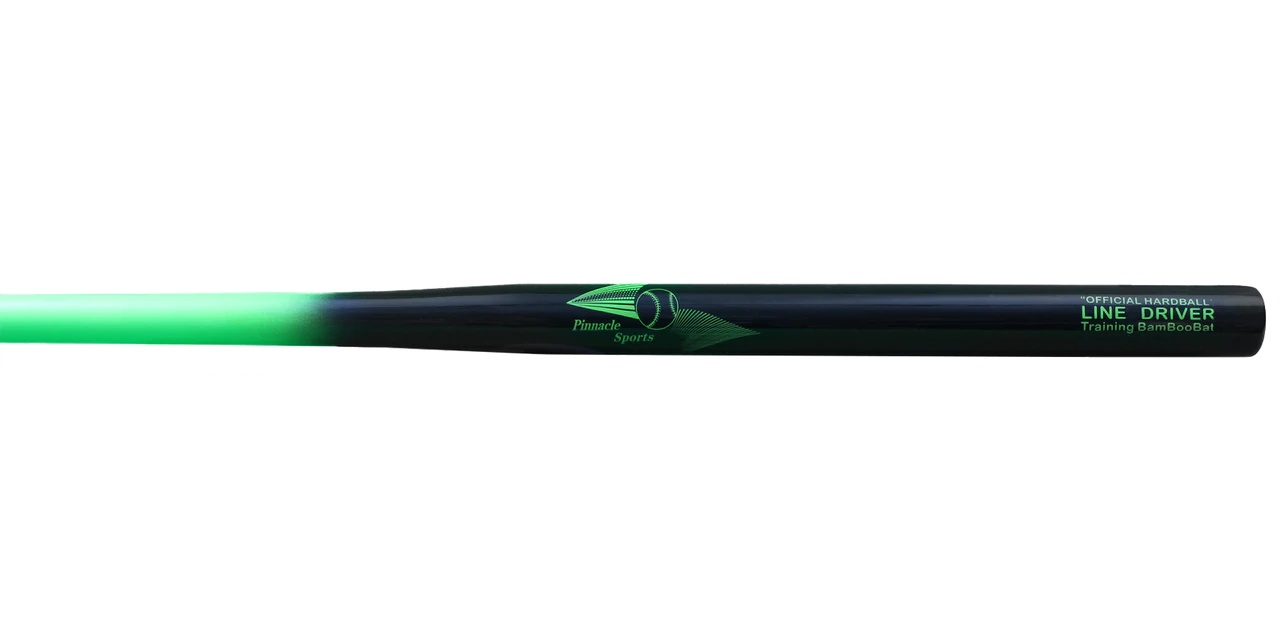bita: (1, 284, 1261, 363)
